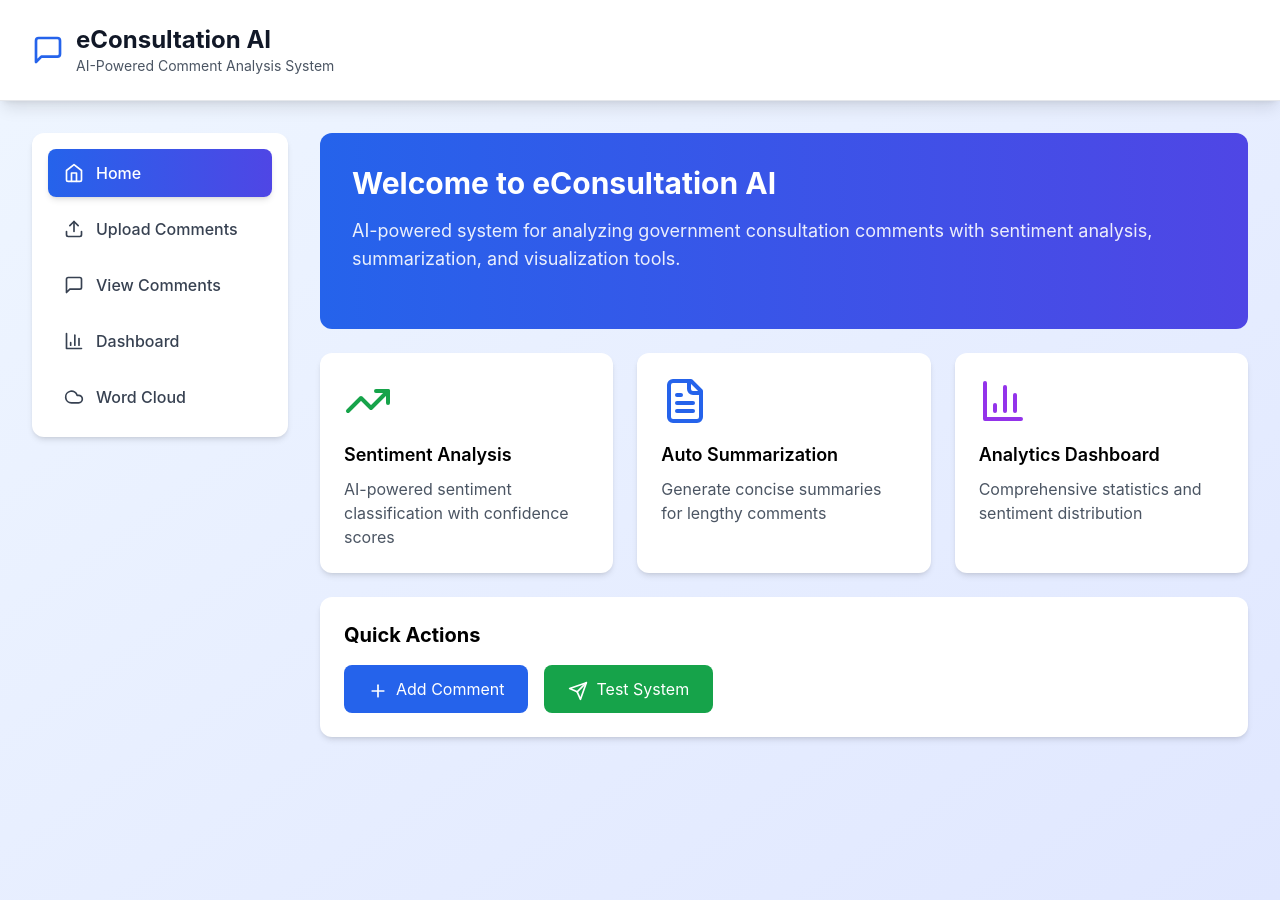
Test: Core Integration Validation › Requirement 4.5: Navigation and UI Components Preserved › should maintain all navigation functionality
Click the button "Home": coordinates (160, 173) left=48, top=149, right=272, bottom=197
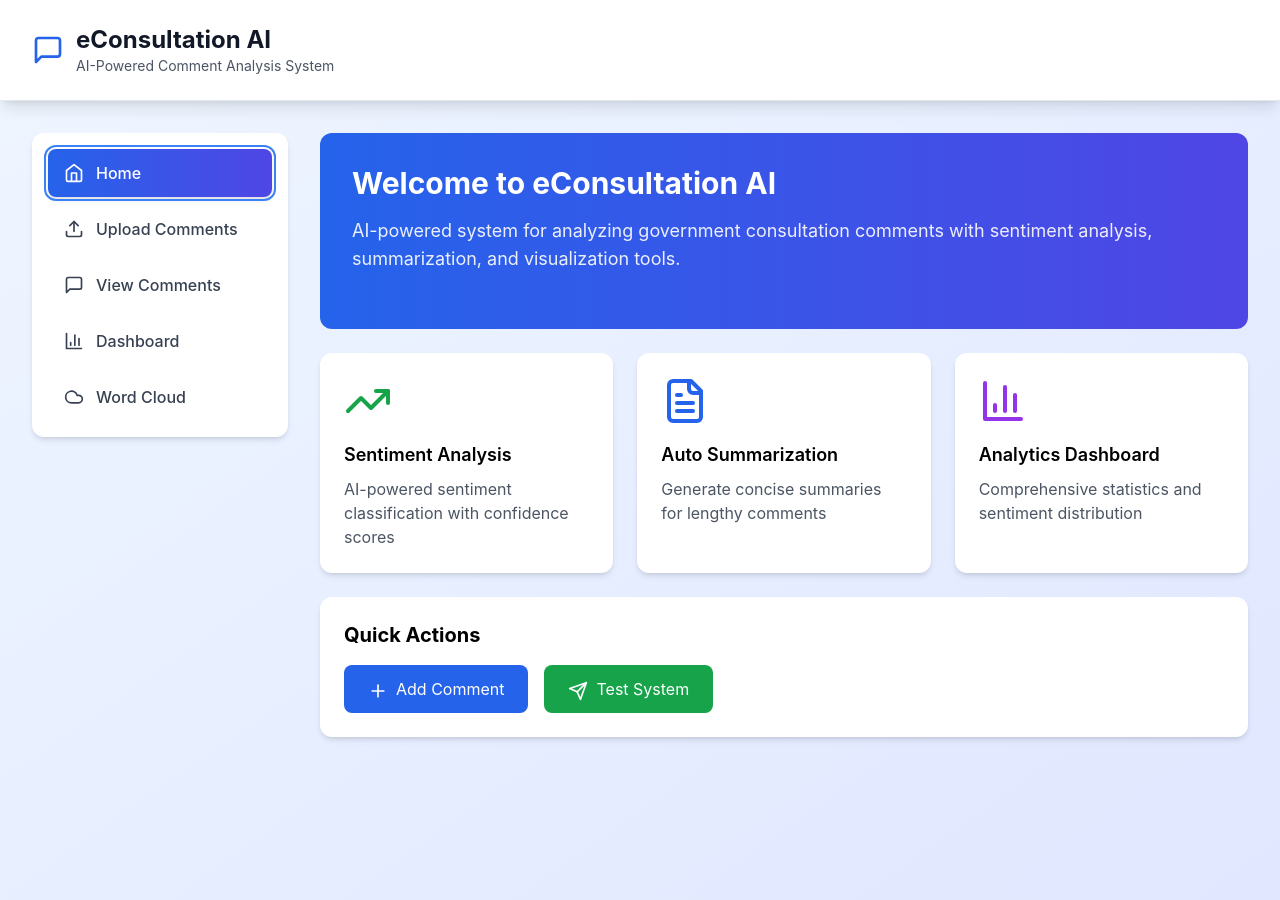
Expected: the heading "Welcome to eConsultation AI" is shown, left=352, top=165, right=776, bottom=201
Click the button "Upload Comments": coordinates (160, 229) left=48, top=205, right=272, bottom=253
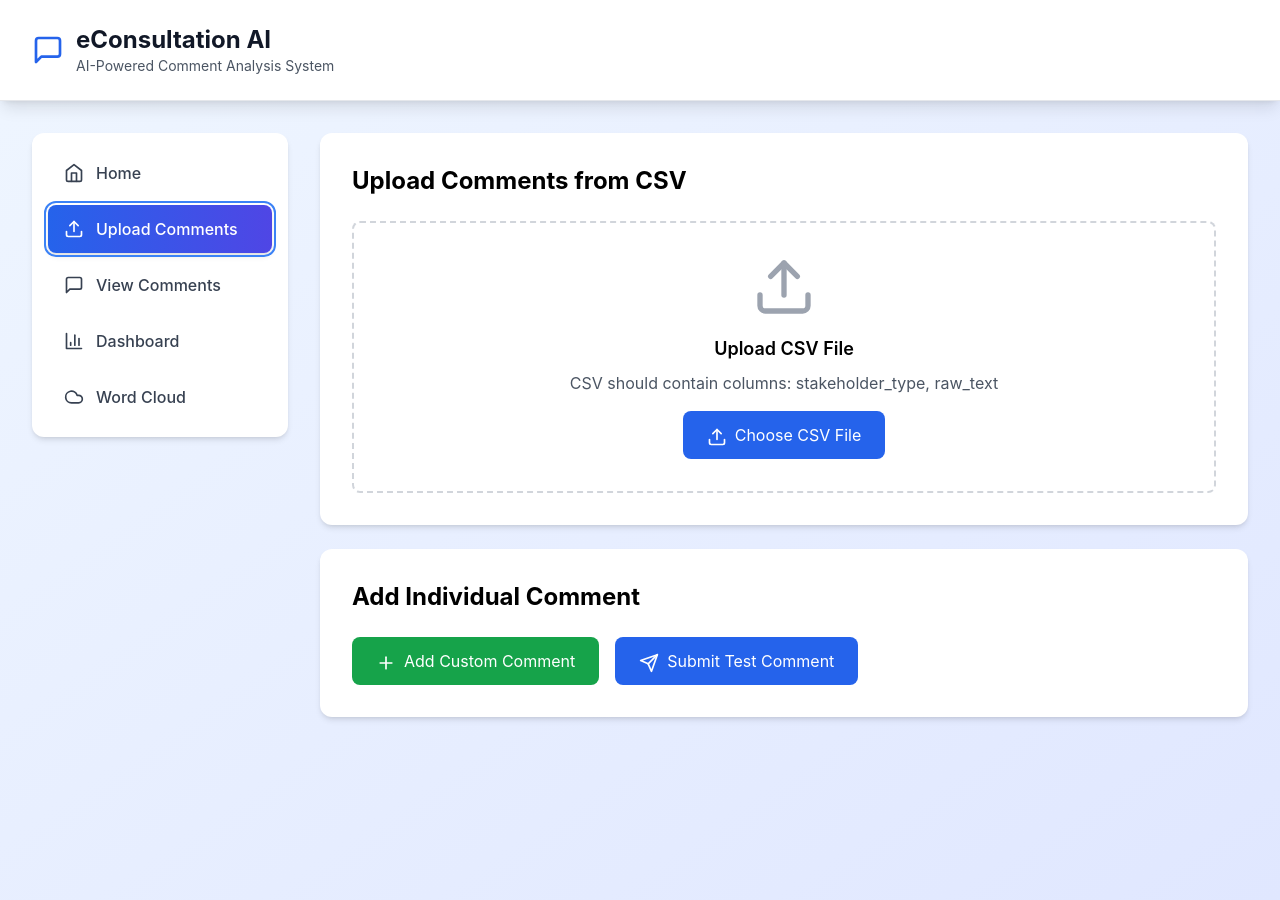
Expected: the heading "Upload Comments from CSV" is shown, left=352, top=166, right=687, bottom=195
Click the button "View Comments": coordinates (160, 285) left=48, top=261, right=272, bottom=309
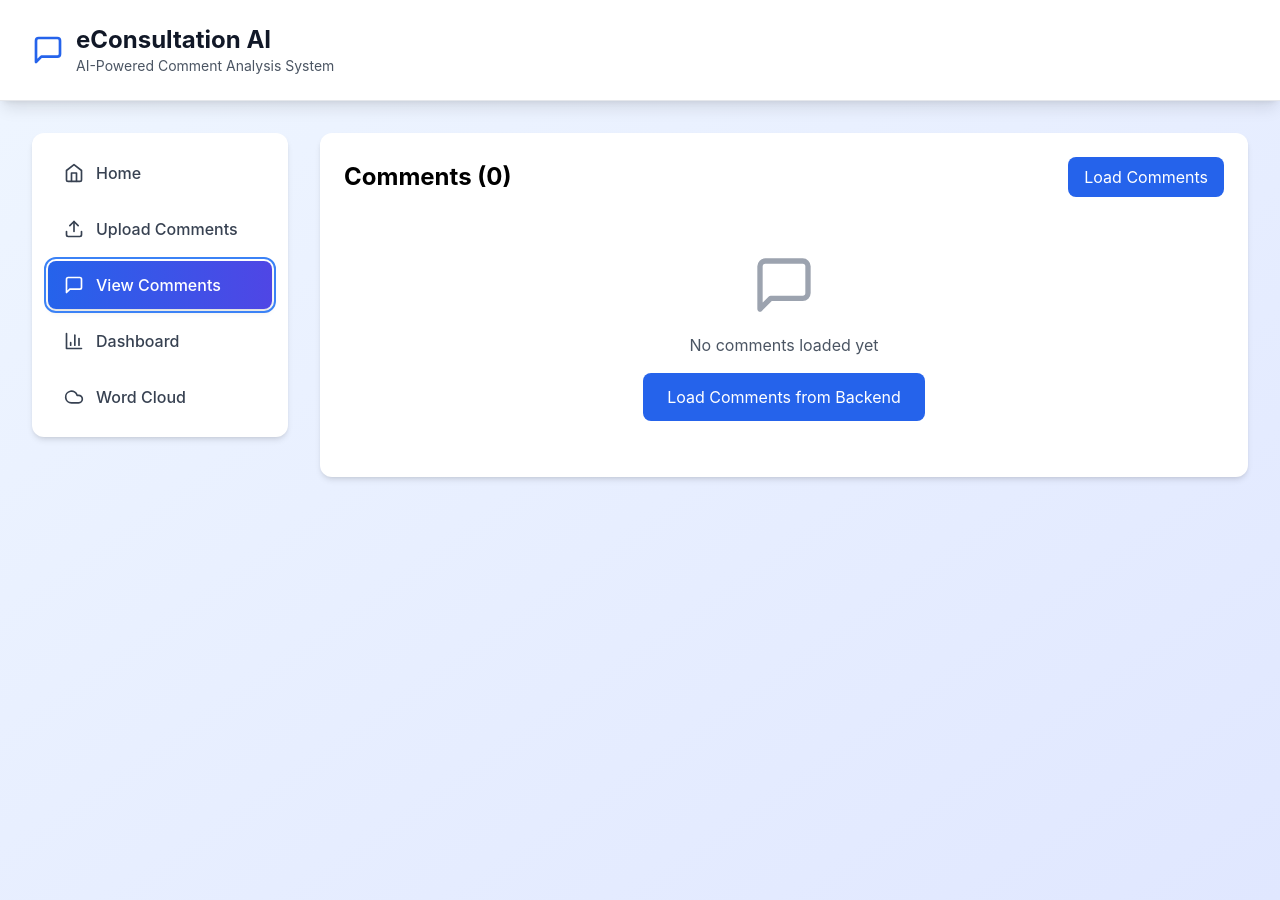
Expected: the heading "Comments (0)" is shown, left=344, top=161, right=512, bottom=193
Click the button "Dashboard": coordinates (160, 341) left=48, top=317, right=272, bottom=365
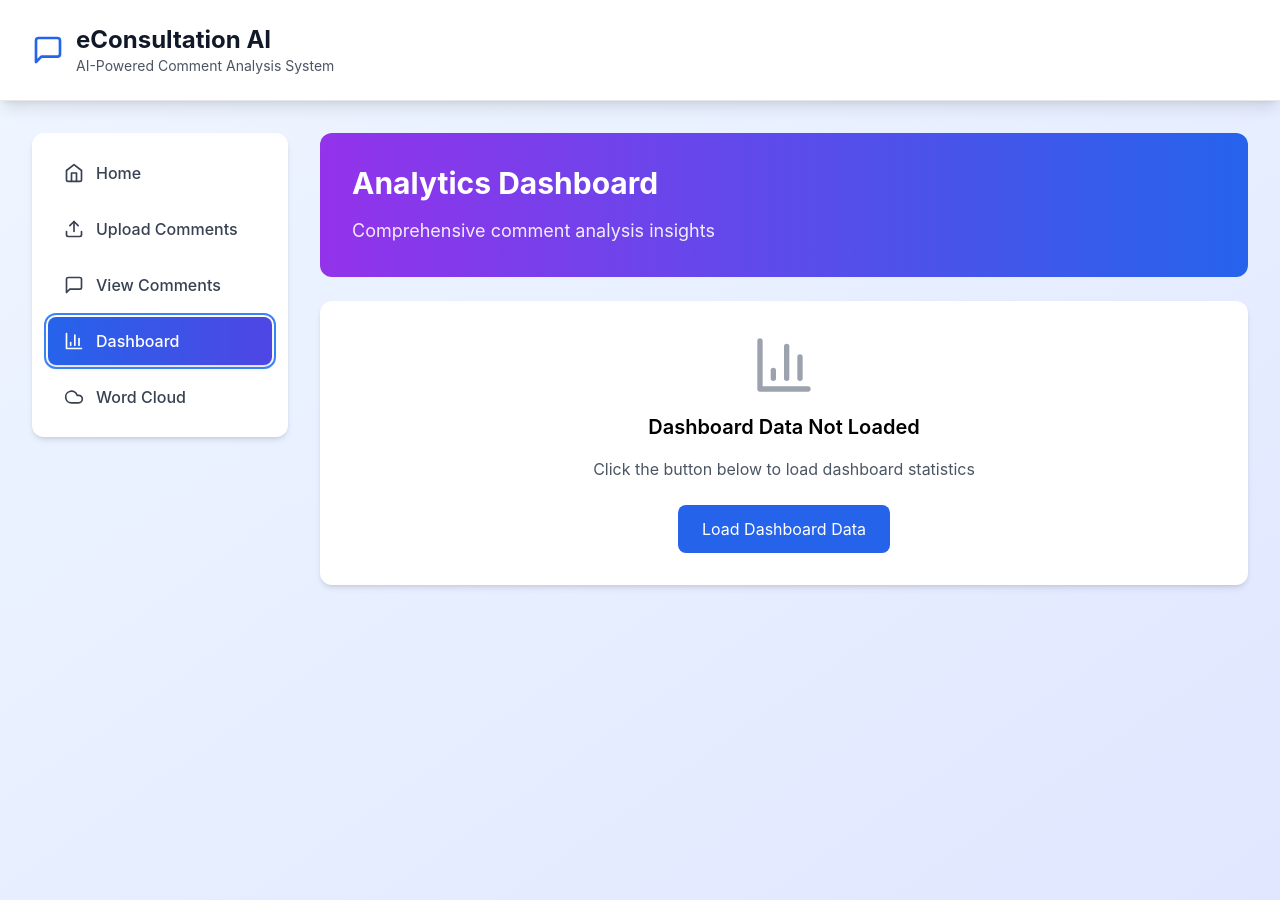
Expected: the heading "Analytics Dashboard" is shown, left=352, top=165, right=658, bottom=201
Click the button "Word Cloud": coordinates (160, 397) left=48, top=373, right=272, bottom=421
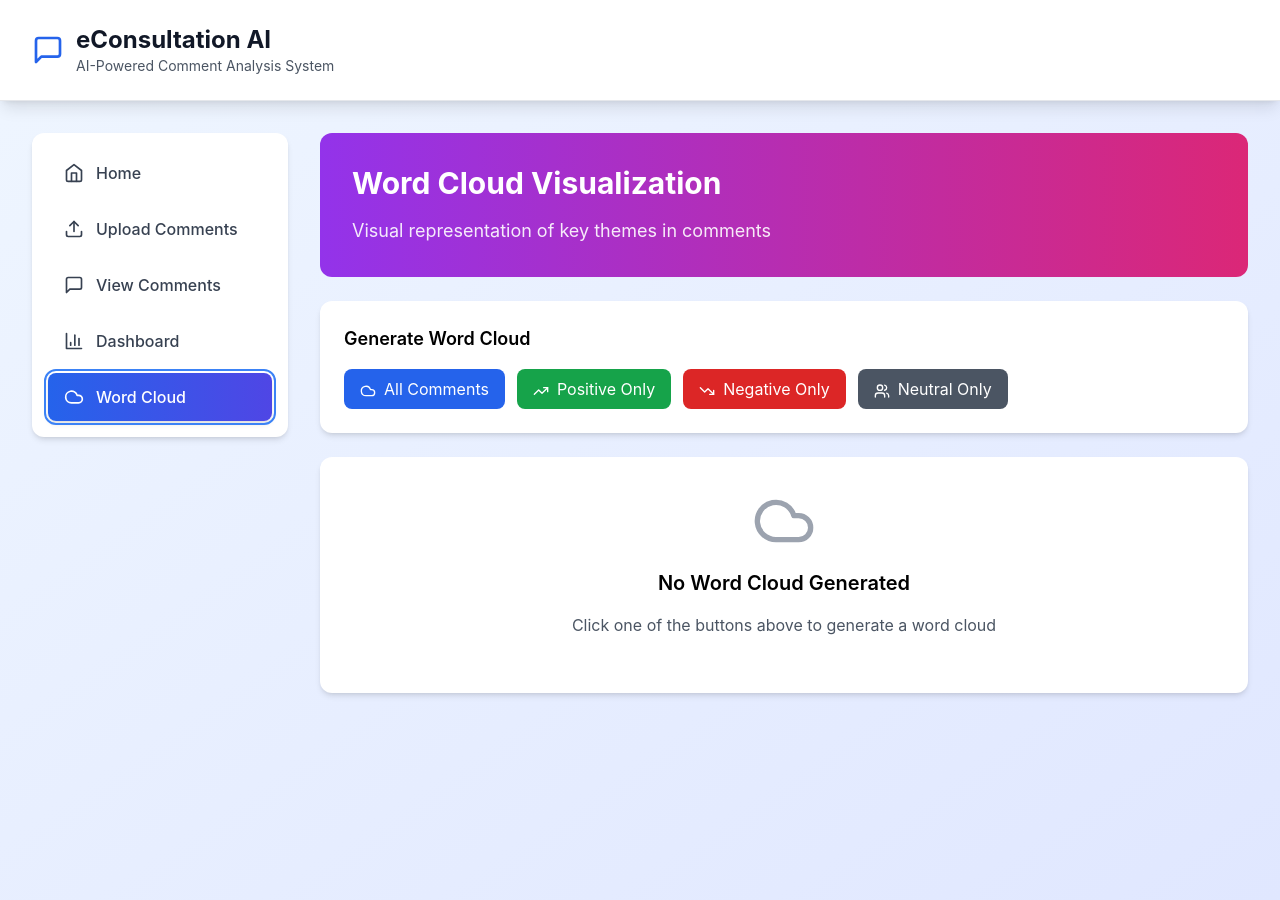
Expected: the heading "Word Cloud Visualization" is shown, left=352, top=165, right=721, bottom=201
